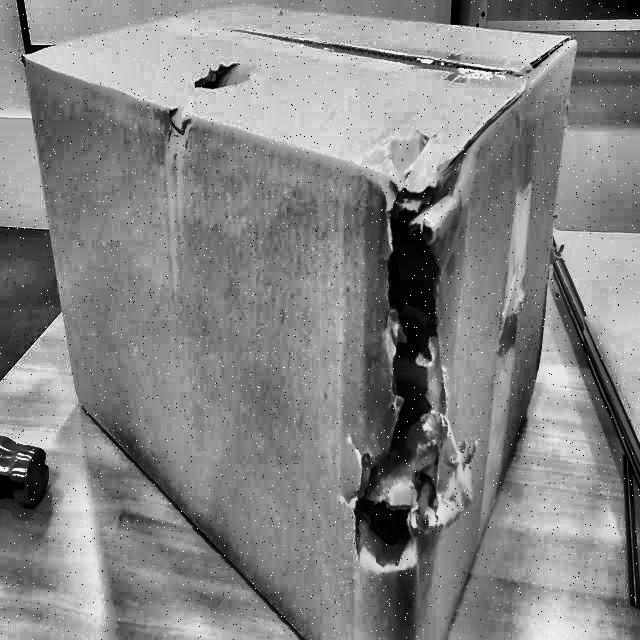box: (18, 2, 582, 639)
hole: (348, 164, 461, 579), (188, 56, 250, 99)
